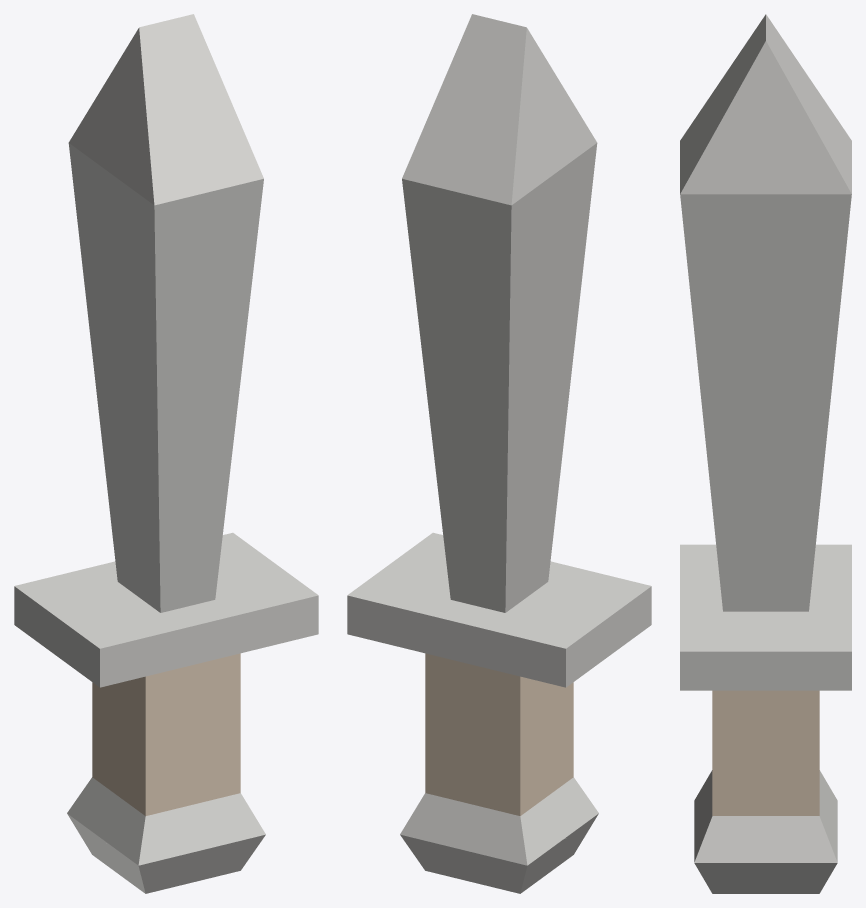
File: sword.fbx
3 views of the same model, side by side, from view 1: azimuth 30°, elevation 25°; view 2: azimuth 150°, elevation 25°; view 3: azimuth 270°, elevation 25° (orthographic).
Visible parts, largest first — view 1: sword, sword_cell.007, sword_cell.003, sword_cell.006, sword_cell.002, sword_cell.001, sword_cell.004, sword_cell.008, sword_cell.005; view 2: sword, sword_cell.007, sword_cell.004, sword_cell.001, sword_cell, sword_cell.008, sword_cell.002; view 3: sword, sword_cell.007, sword_cell, sword_cell.008, sword_cell.001, sword_cell.004, sword_cell.005, sword_cell.003, sword_cell.006.
Boxes of the visible parts, x1=… form: sword: x1=14, y1=14, x2=316, y2=893; sword_cell.007: x1=69, y1=28, x2=318, y2=664; sword_cell.003: x1=61, y1=613, x2=240, y2=758; sword_cell.006: x1=103, y1=745, x2=245, y2=874; sword_cell.002: x1=56, y1=616, x2=136, y2=687; sword_cell.001: x1=14, y1=515, x2=128, y2=746; sword_cell.004: x1=67, y1=743, x2=118, y2=873; sword_cell.008: x1=218, y1=536, x2=312, y2=591; sword_cell.005: x1=110, y1=841, x2=257, y2=893; sword: x1=347, y1=28, x2=651, y2=893; sword_cell.007: x1=428, y1=14, x2=598, y2=612; sword_cell.004: x1=400, y1=754, x2=562, y2=891; sword_cell.001: x1=425, y1=550, x2=607, y2=768; sword_cell: x1=402, y1=69, x2=460, y2=291; sword_cell.008: x1=355, y1=537, x2=440, y2=658; sword_cell.002: x1=608, y1=585, x2=651, y2=651; sword: x1=680, y1=14, x2=851, y2=893; sword_cell.007: x1=681, y1=14, x2=851, y2=698; sword_cell: x1=768, y1=92, x2=851, y2=599; sword_cell.008: x1=690, y1=610, x2=851, y2=702; sword_cell.001: x1=766, y1=544, x2=851, y2=776; sword_cell.004: x1=766, y1=777, x2=837, y2=893; sword_cell.005: x1=694, y1=804, x2=765, y2=893; sword_cell.003: x1=712, y1=690, x2=765, y2=771; sword_cell.006: x1=694, y1=768, x2=775, y2=828.
Size of the model in its own units: 99.01 by 364 by 67.2.
